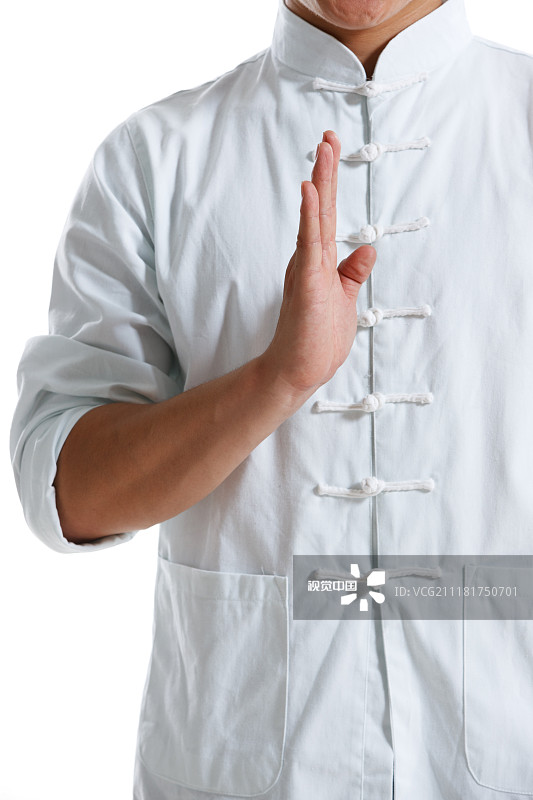no-phone: (258, 114, 400, 406)
